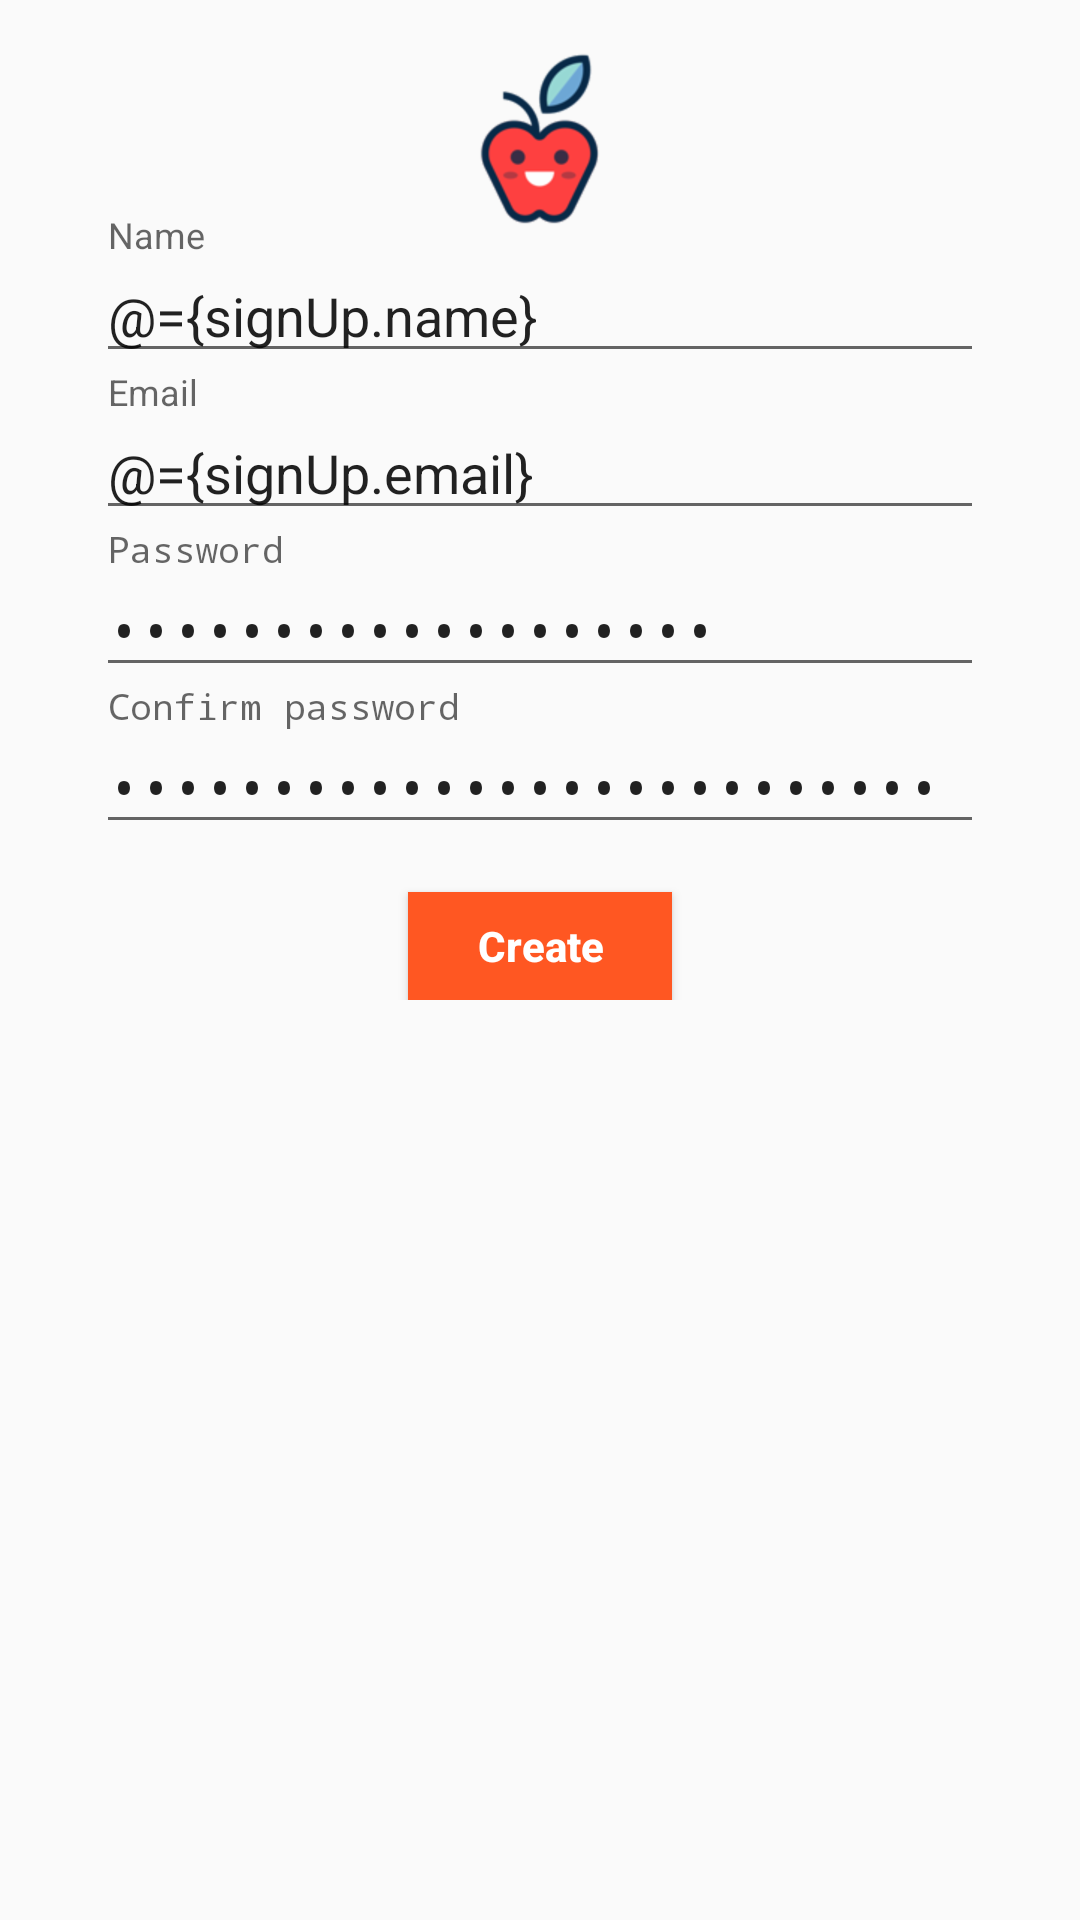

Named icons in this screenshot (1080px×1920px) and their centers, point (x, y):
apple: point (539, 139)
